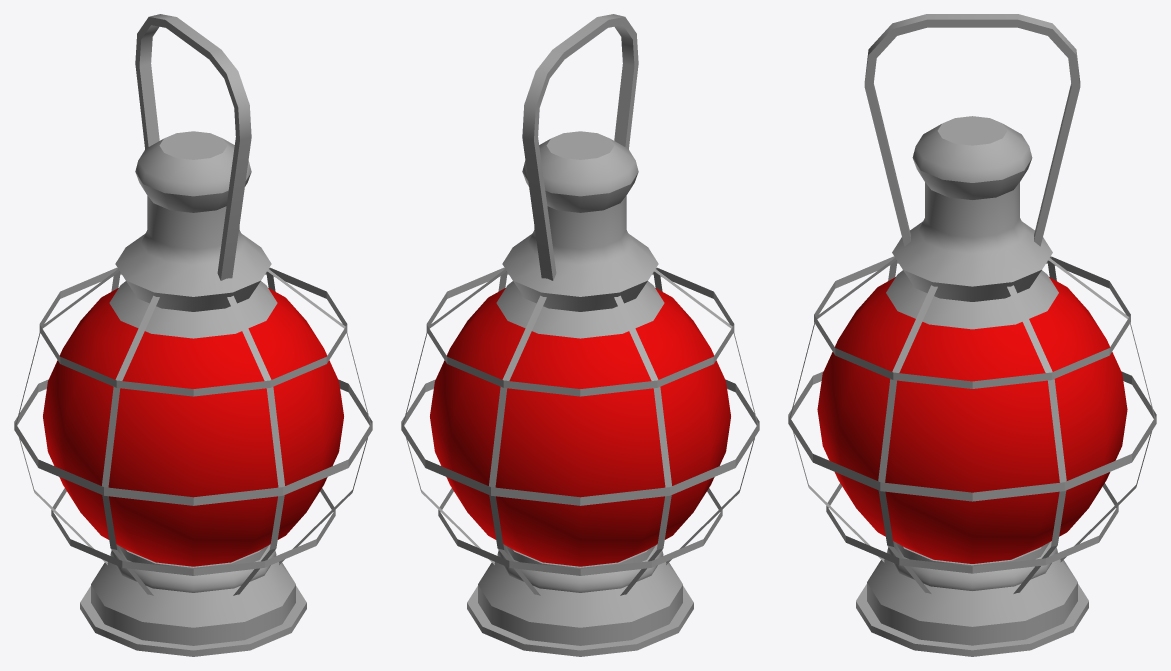
Rendered from Lamp_1.fbx.
3 views of the same model, side by side, from view 1: azimuth 30°, elevation 25°; view 2: azimuth 150°, elevation 25°; view 3: azimuth 270°, elevation 25° (orthographic). The views are drawn at different scales.
Parts seen in each view (by area): view 1: Lamp_1; view 2: Lamp_1; view 3: Lamp_1.
Part boxes in pixels (box(x1,y1,x2,y2)): Lamp_1: box(14, 14, 372, 656); Lamp_1: box(401, 14, 759, 656); Lamp_1: box(788, 14, 1156, 656).
Bounding box in the file's own units: 8.62 × 15.25 × 8.62.
